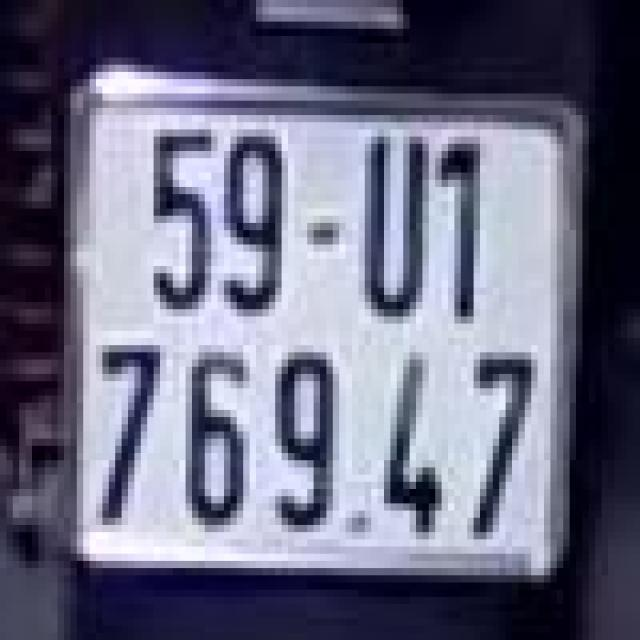1: (435, 126, 493, 327)
4: (380, 338, 458, 532)
5: (137, 104, 220, 313)
6: (179, 334, 256, 550)
7: (90, 317, 167, 532), (467, 342, 544, 550)
9: (256, 341, 339, 543), (221, 126, 291, 313)
U: (365, 115, 429, 324)
